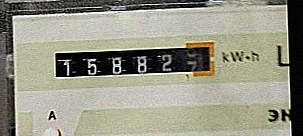1: (61, 57, 71, 75)
2: (160, 52, 173, 72)
5: (83, 56, 98, 76)
7: (184, 58, 197, 70)
8: (134, 52, 148, 74), (110, 54, 123, 75)
screen: (49, 39, 219, 85)
